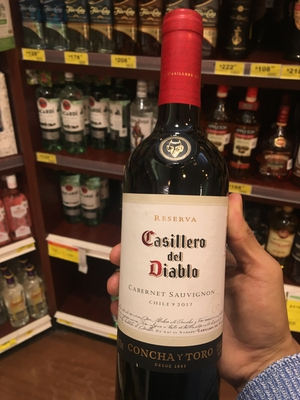casillero del diablo cabernet sauvignon: (106, 12, 241, 400)
